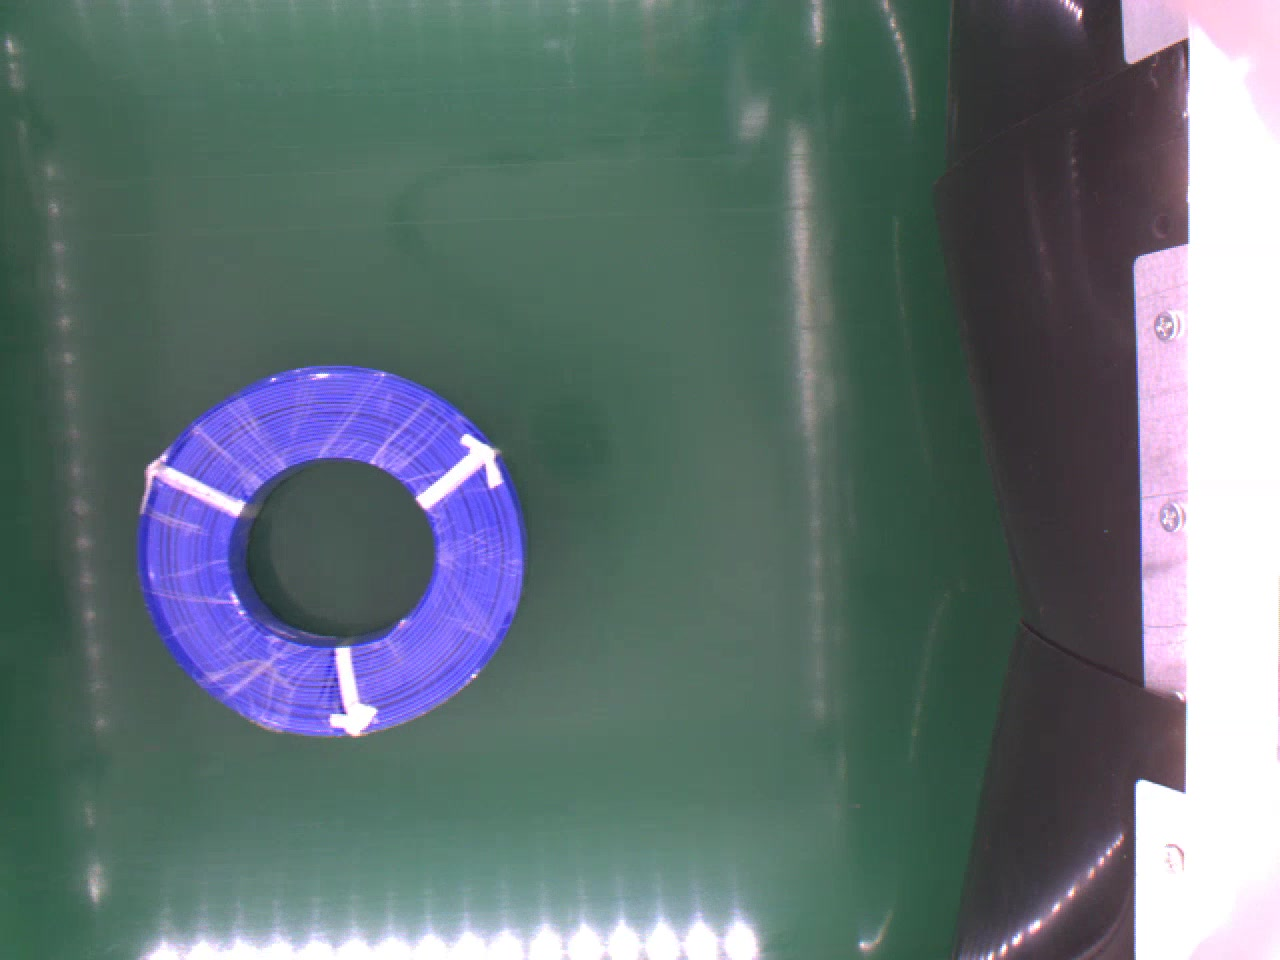blue: (133, 363, 526, 733)
